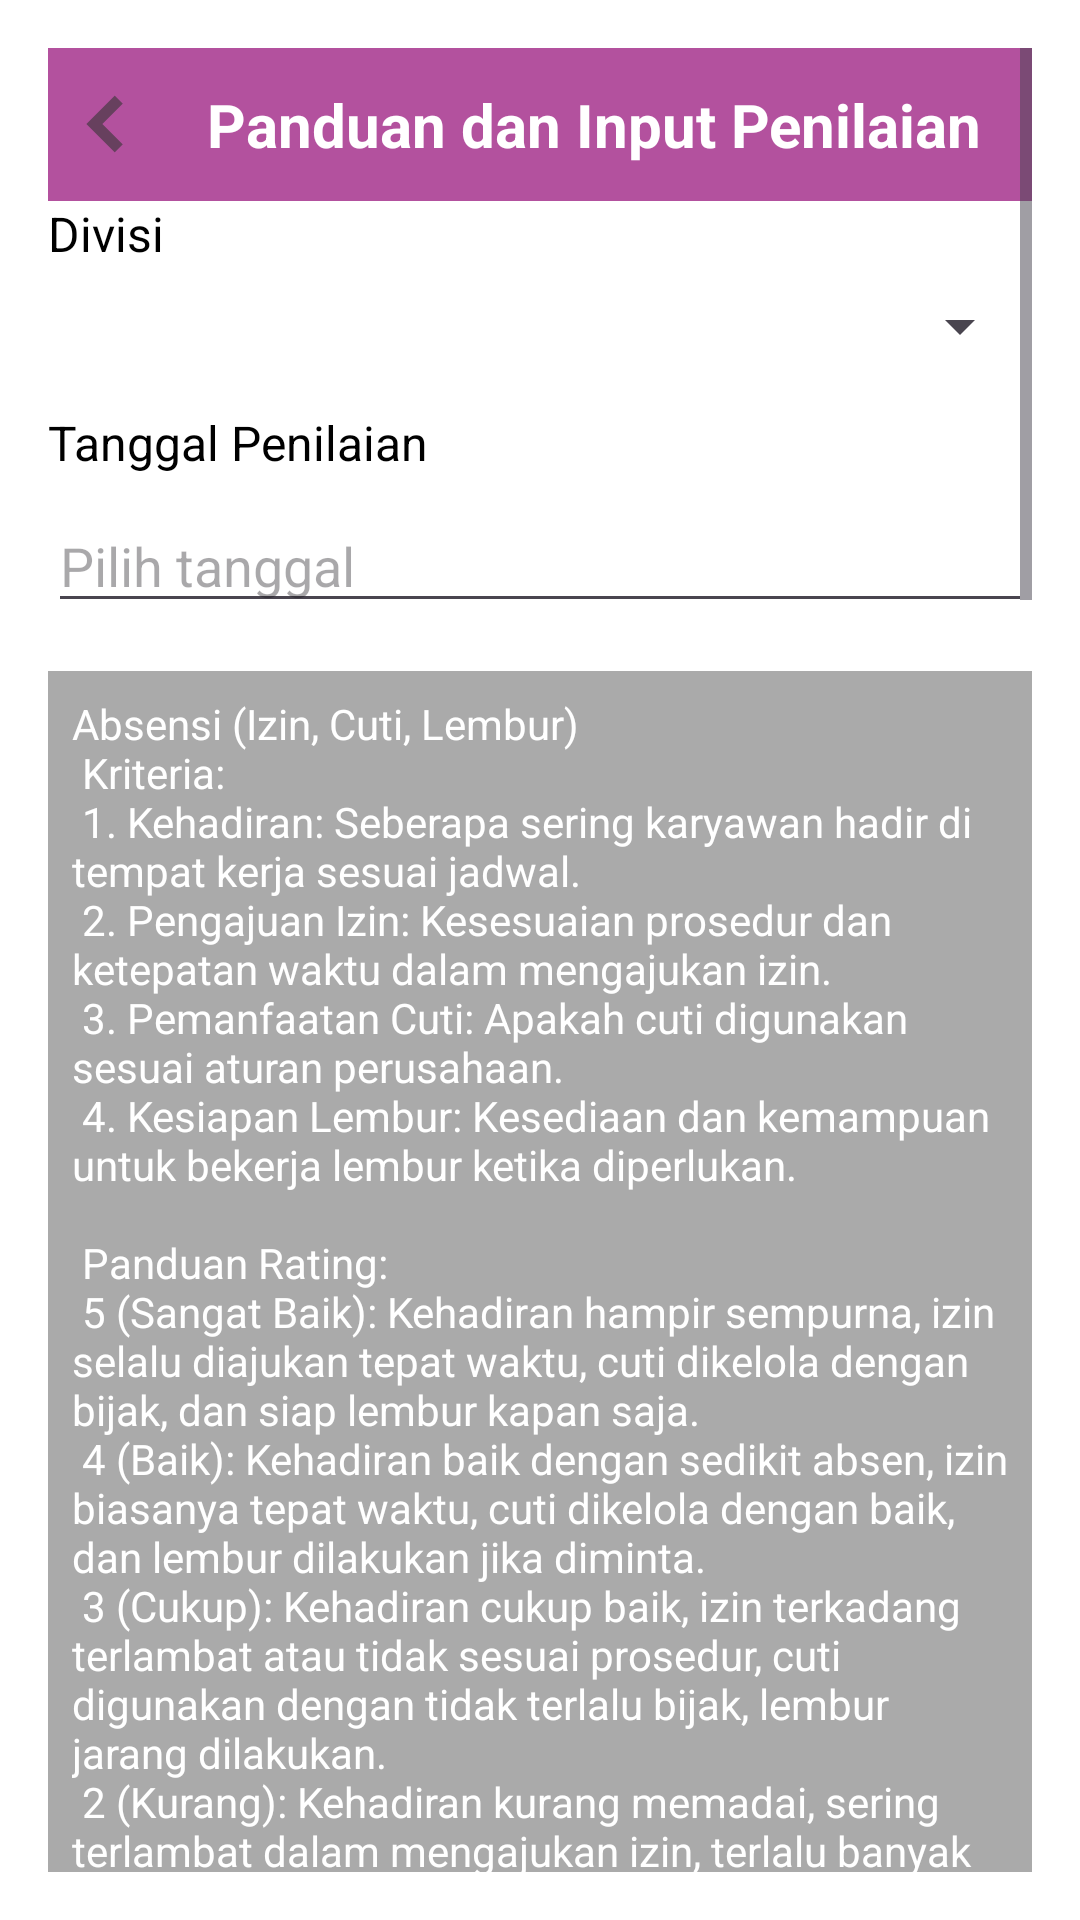

Named icons in this screenshot (1080x1920) and their bounding boxes, Rect(x1, y1, x2, y2):
Back Arrow: Rect(87, 96, 123, 152)
